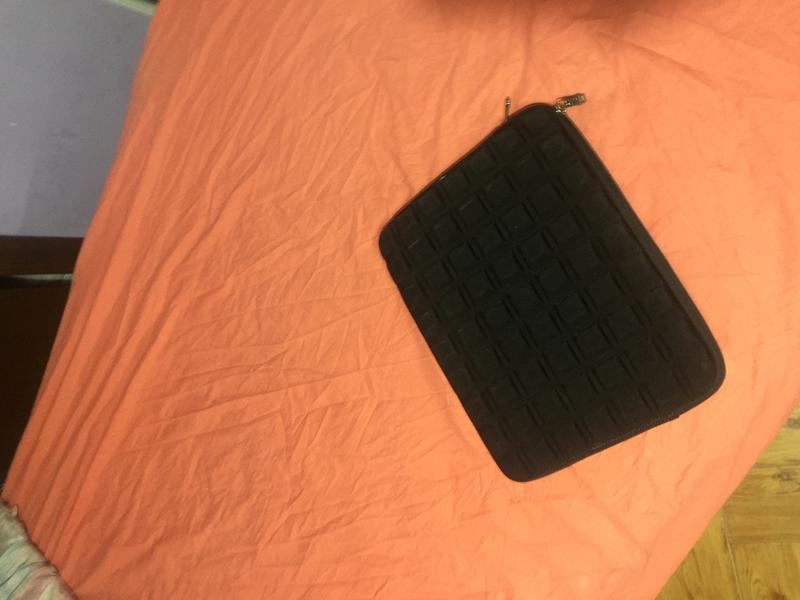cover: (372, 91, 729, 486)
